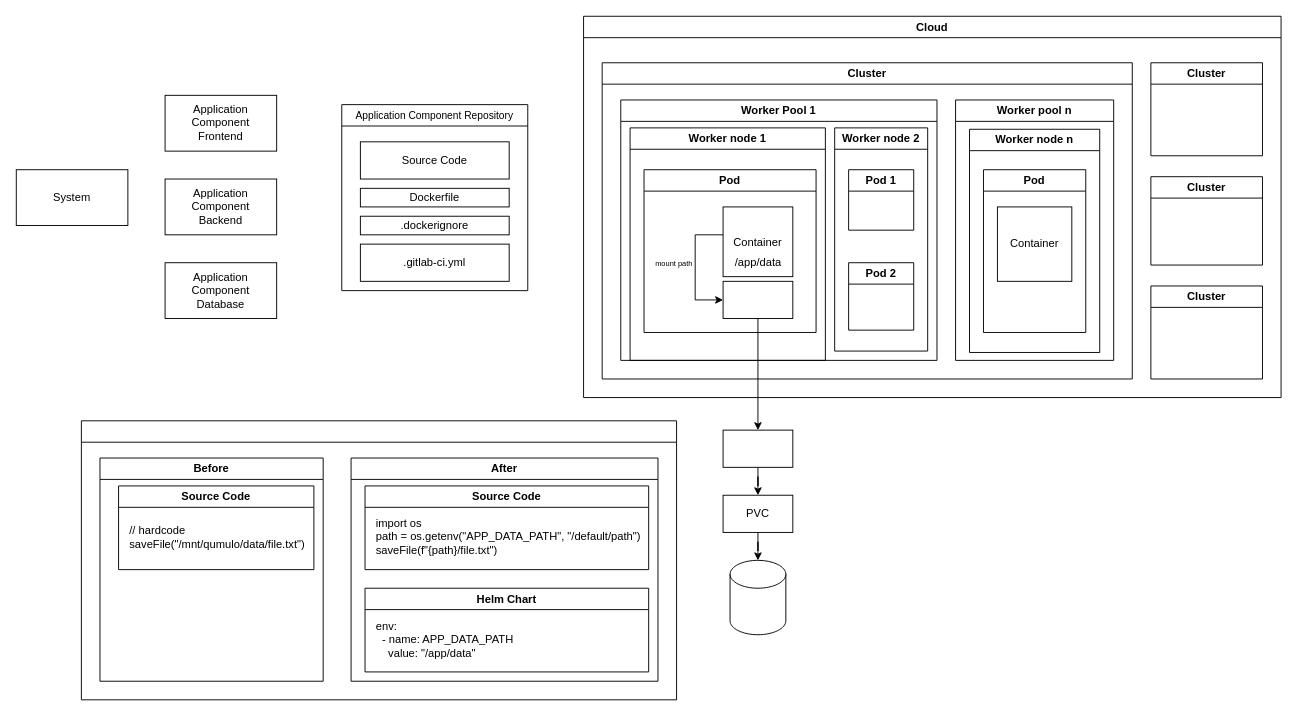
Some shapes in this 1297 by 716 pixel diagram are drawn without their labels. Here are the shapes that lost their labels. From the top down, the centre of each, then its label:
At (x=757, y=299): "Volume".
At (x=757, y=448): "PV".
At (x=378, y=560): "Update Source Code - Path Mapping".
At (x=757, y=597): "Shared Storage Qumulo".
